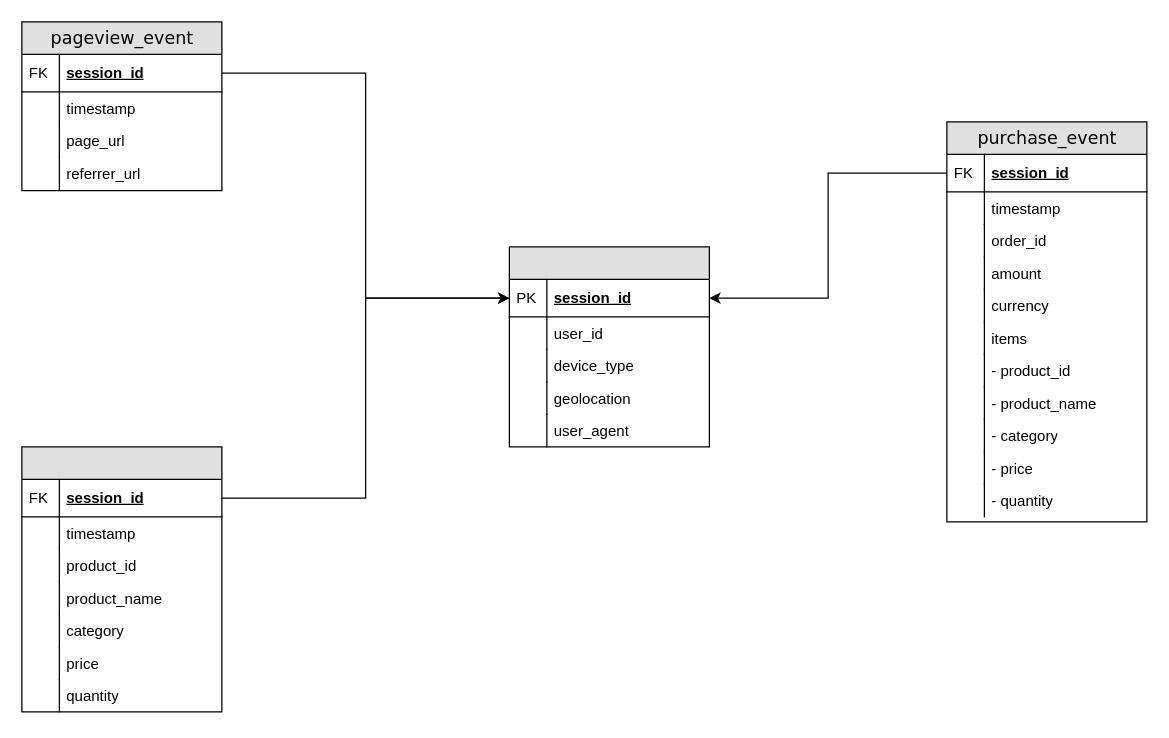
The diagram is 1169 pixels wide and 738 high, and some of its shapes have lost their labels. The box of each missing label's shape, as (x1, y1, x2, y2) in pixels:
additemtochart_event: (21, 446, 222, 712)
sessions: (508, 246, 709, 447)
